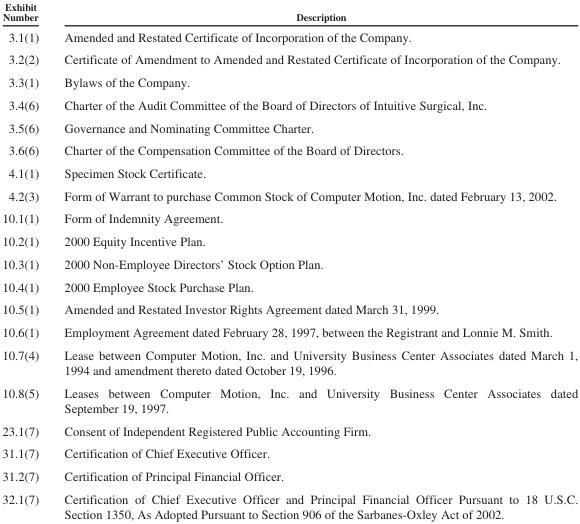table: (1, 0, 577, 520)
table column: (50, 0, 577, 520), (1, 0, 50, 520)
table column header: (1, 0, 577, 25)
table row: (1, 380, 577, 418), (1, 343, 577, 380), (1, 487, 577, 520), (1, 0, 577, 25), (1, 47, 577, 70), (1, 70, 577, 93), (1, 115, 577, 138), (1, 138, 577, 161), (1, 161, 577, 184), (1, 206, 577, 229), (1, 229, 577, 252), (1, 274, 577, 297), (1, 297, 577, 320), (1, 320, 577, 343), (1, 418, 577, 441), (1, 441, 577, 464), (1, 464, 577, 487), (1, 25, 577, 47), (1, 93, 577, 115), (1, 184, 577, 206), (1, 252, 577, 274)
